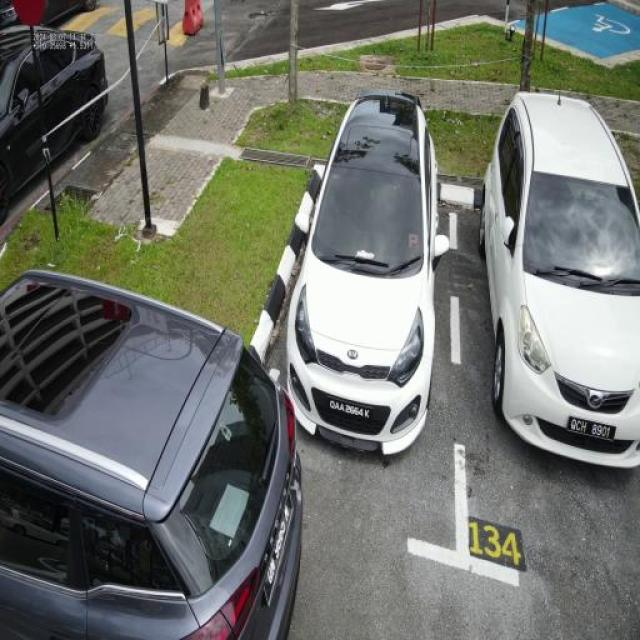Legalparking: (252, 48, 640, 597)
illegalparking: (4, 250, 323, 640)
